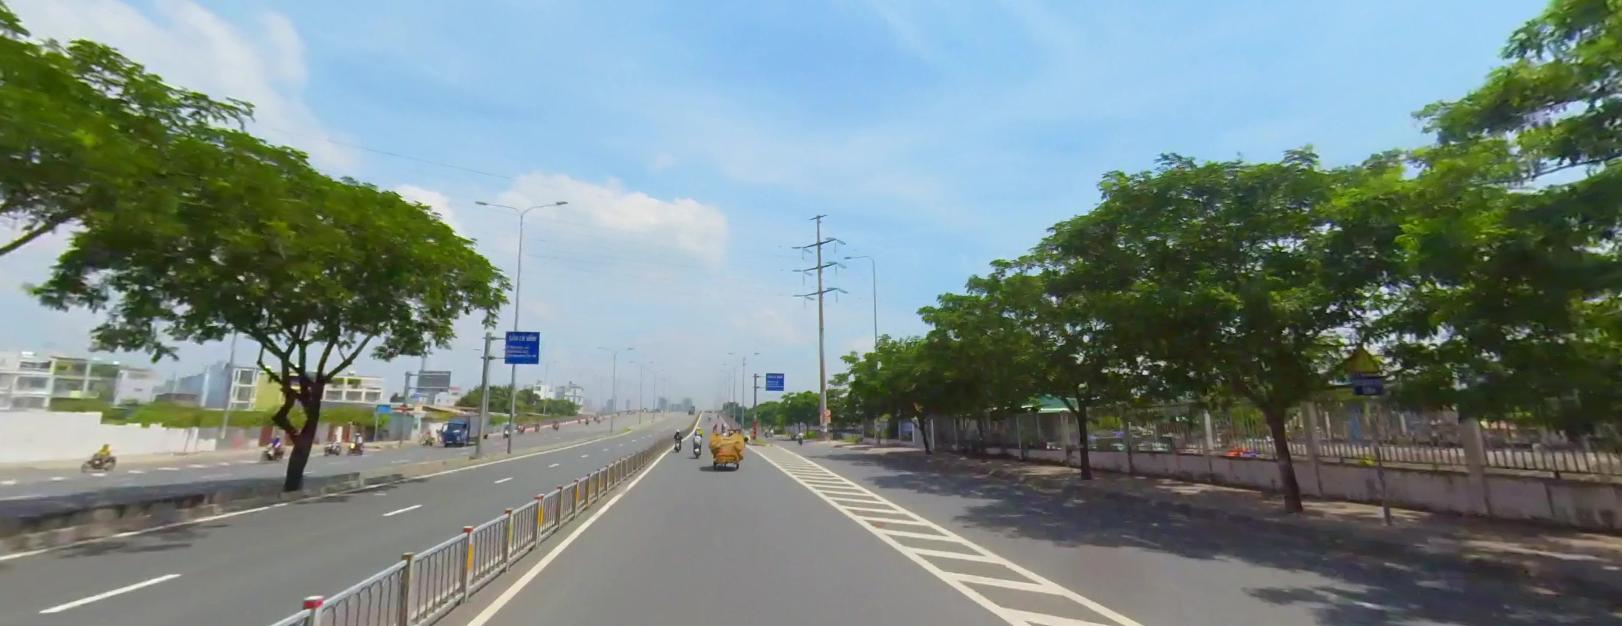Cam con lai: (822, 406, 830, 414)
Cam nguoc chieu: (399, 403, 408, 410)
